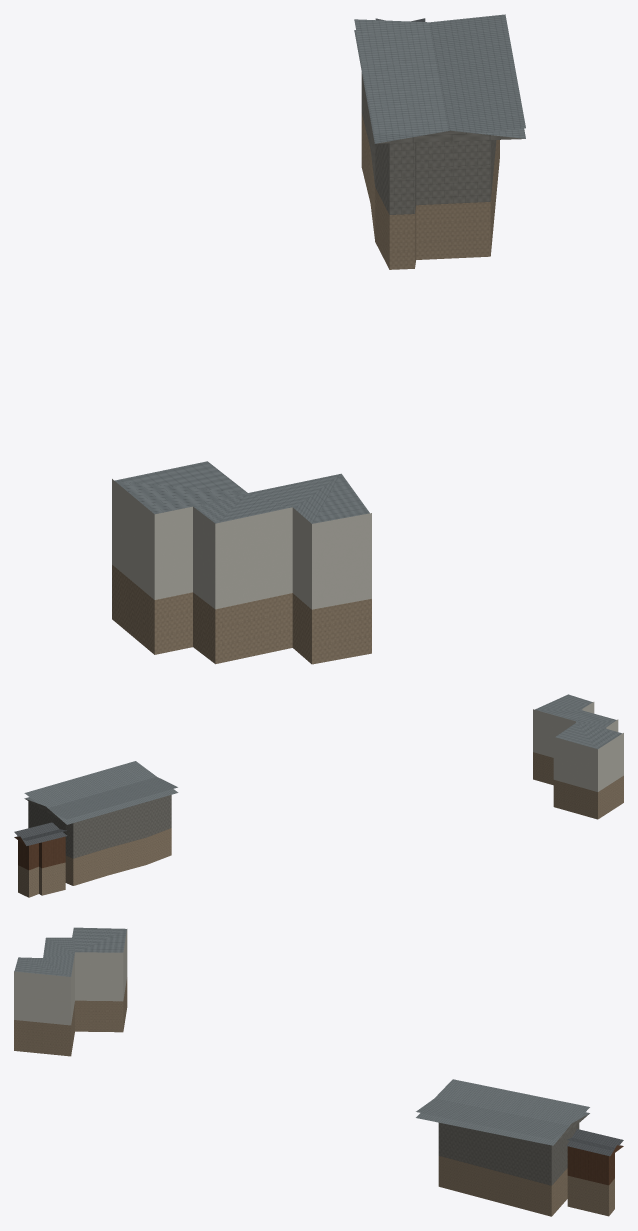
Rendered from bld_c32_-40_452.gltf.
The picture shows the model from 3 angles, top to bottom: view 1: azimuth 30°, elevation 25°; view 2: azimuth 150°, elevation 25°; view 3: azimuth 270°, elevation 25°; orthographic projection. The views are drawn at different scales.
Parts seen in each view (by area): view 1: bld_c32_-40_452; view 2: bld_c32_-40_452; view 3: bld_c32_-40_452.
Part boxes in pixels (bbox=[...]): bld_c32_-40_452: bbox=[112, 14, 525, 664]; bld_c32_-40_452: bbox=[14, 694, 623, 897]; bld_c32_-40_452: bbox=[14, 927, 623, 1216].
Bounding box in the file's own units: 75.47 × 14.3 × 91.02.
Materials: 9 (9 with a texture image).
